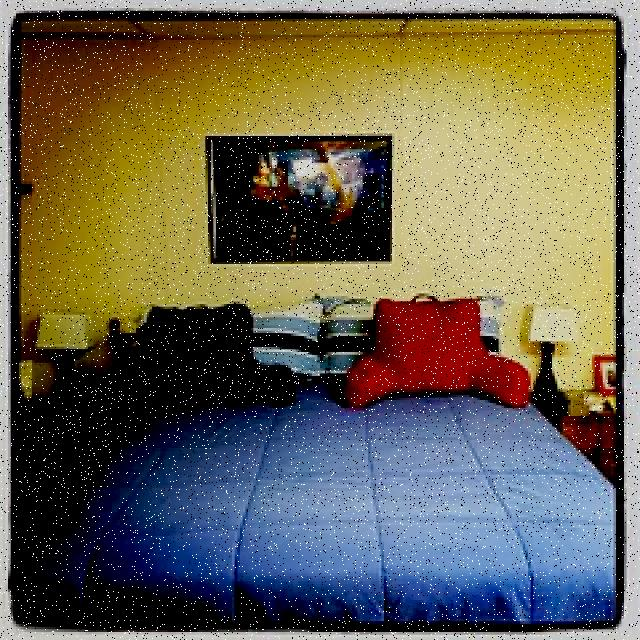bed: (58, 299, 608, 628)
